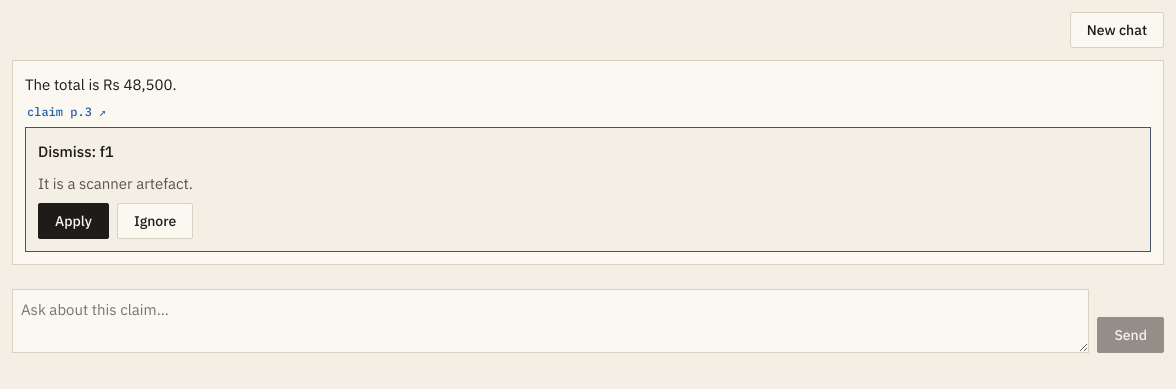
Test case: a 409 on Apply refetches the thread so the card shows its real status, with a notice
This screenshot has width=1176, height=389.
Click the button "Apply".
click(73, 221)  # box 38,203 -> 109,239
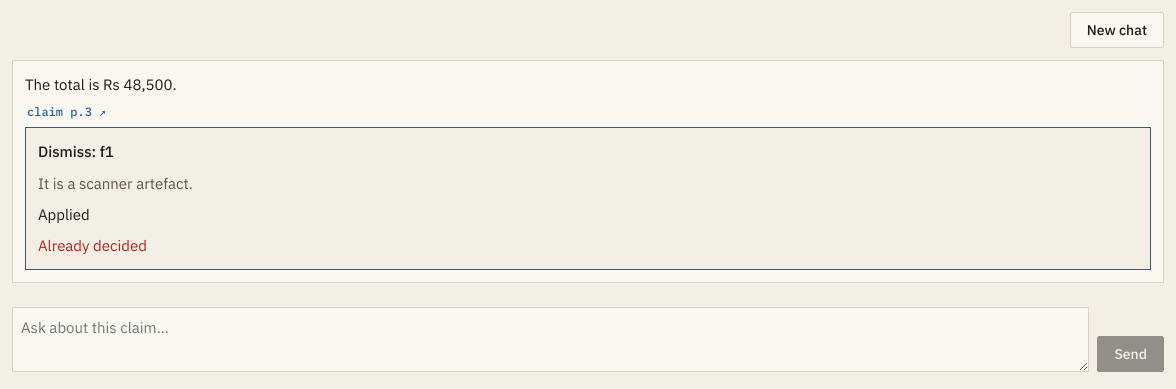
Check: the text "Applied" is shown, box 38,205 -> 90,224
Check: the text "Already decided" is shown, box 38,236 -> 147,255
Check: the button "Apply" is gone
